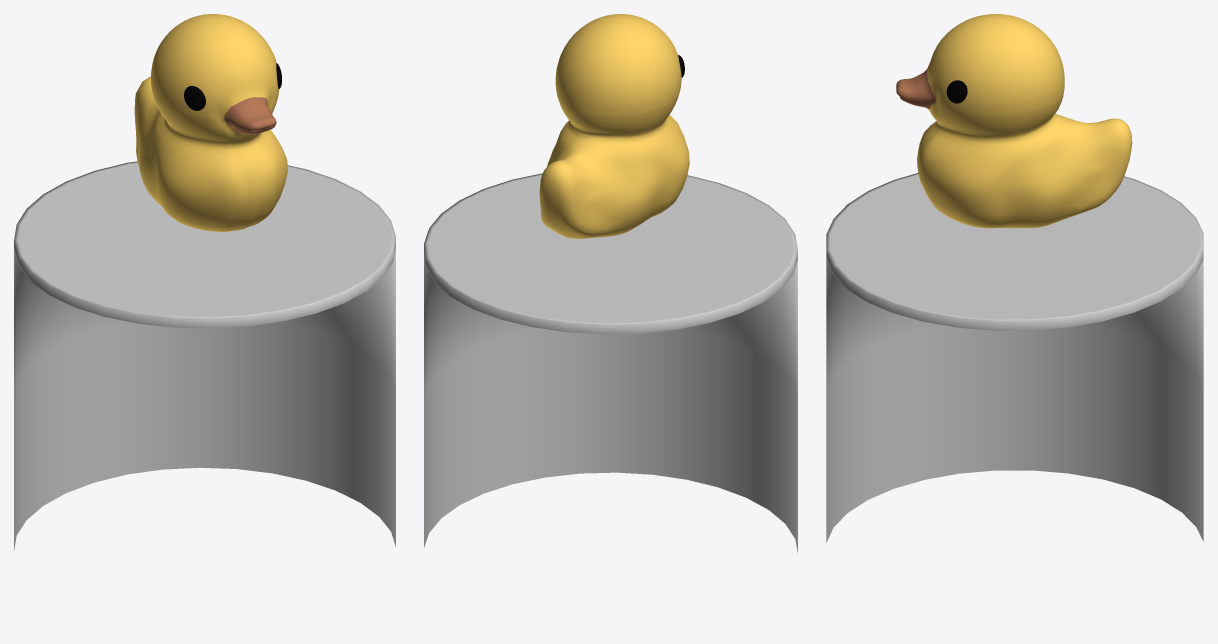
Rendered from duck.gltf.
3 renders of one model, left to right at view 1: azimuth 30°, elevation 25°; view 2: azimuth 150°, elevation 25°; view 3: azimuth 270°, elevation 25°, orthographic. The views are drawn at different scales.
Visible parts, largest first — view 1: base_pillar, base_cap, duck, duck_eyes; view 2: base_pillar, base_cap, duck; view 3: base_pillar, base_cap, duck.
Boxes of the visible parts, <box> form: base_pillar: <box>14,247,395,550</box>; base_cap: <box>14,161,395,328</box>; duck: <box>134,14,287,231</box>; duck_eyes: <box>184,63,281,110</box>; base_pillar: <box>424,254,797,552</box>; base_cap: <box>424,173,797,334</box>; duck: <box>539,14,689,238</box>; base_pillar: <box>826,259,1203,542</box>; base_cap: <box>826,173,1203,330</box>; duck: <box>896,14,1132,228</box>.
Bounding box in the file's own units: 9.85 × 15.32 × 9.86.
